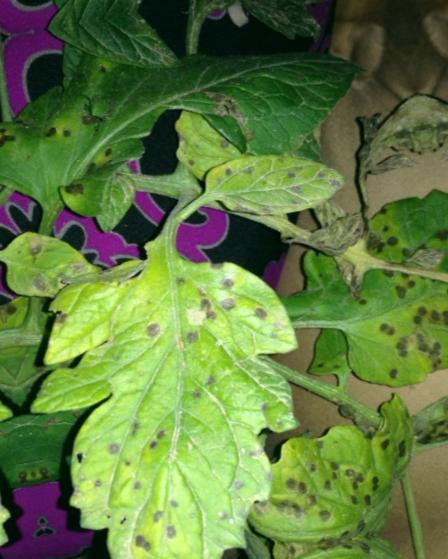Tomato Septoria leaf spot: (7, 225, 330, 559), (0, 17, 377, 235), (215, 390, 448, 559), (188, 133, 383, 244), (318, 249, 448, 399), (0, 222, 106, 313)
